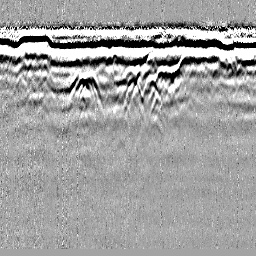cavity: (114, 66, 143, 102)
